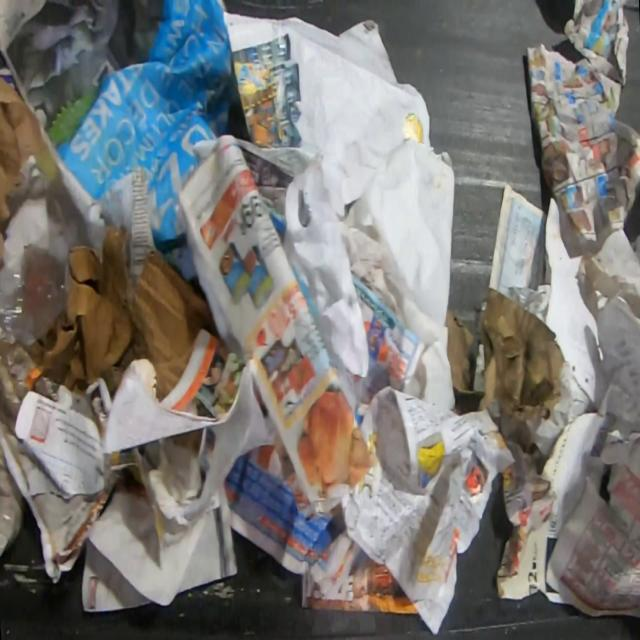cardboard: (25, 225, 220, 401), (444, 287, 564, 421)
rigid_plastic: (0, 229, 64, 350)
